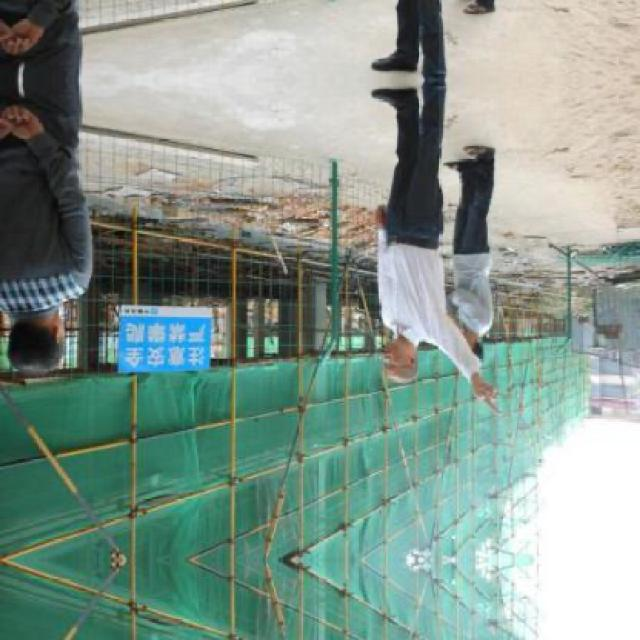sin casco: (361, 318, 437, 376), (14, 328, 64, 382)
